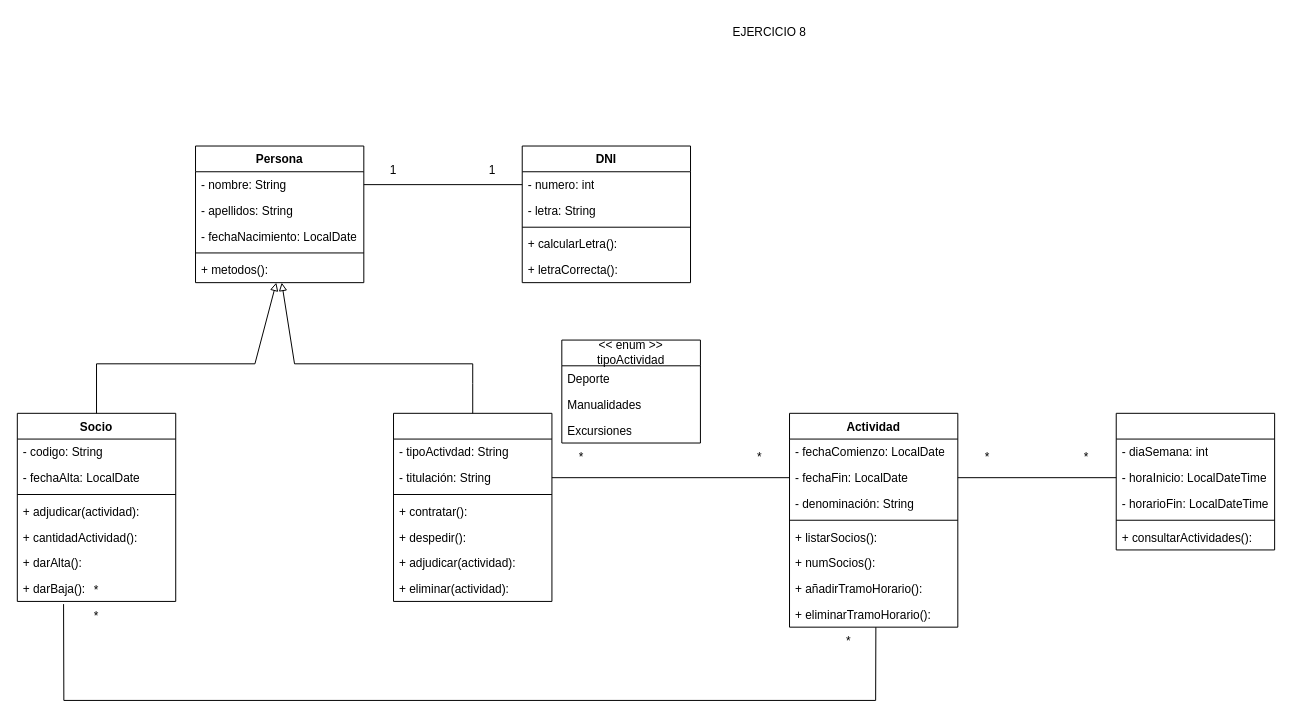
This 1292x719 diagram has some shape labels left out. The box of each missing label's shape, as (x1, y1, x2, y2) in pixels:
Monitor: (393, 412, 552, 601)
TramoHorario: (1115, 412, 1275, 550)
